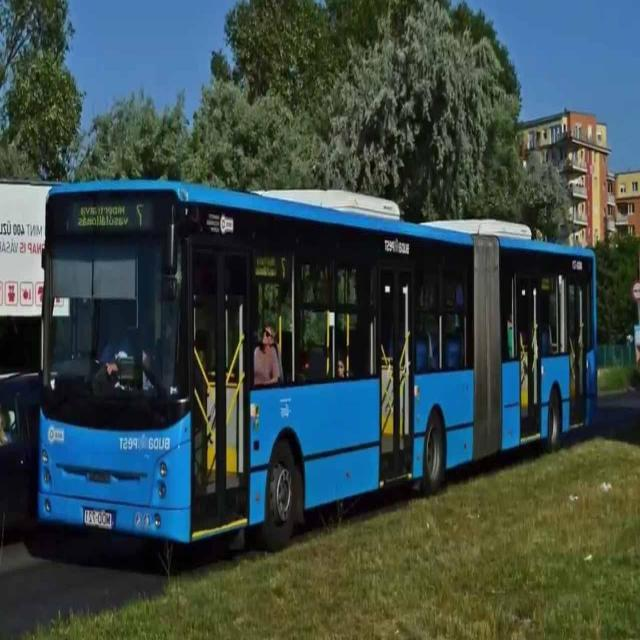bus: (36, 173, 604, 554)
